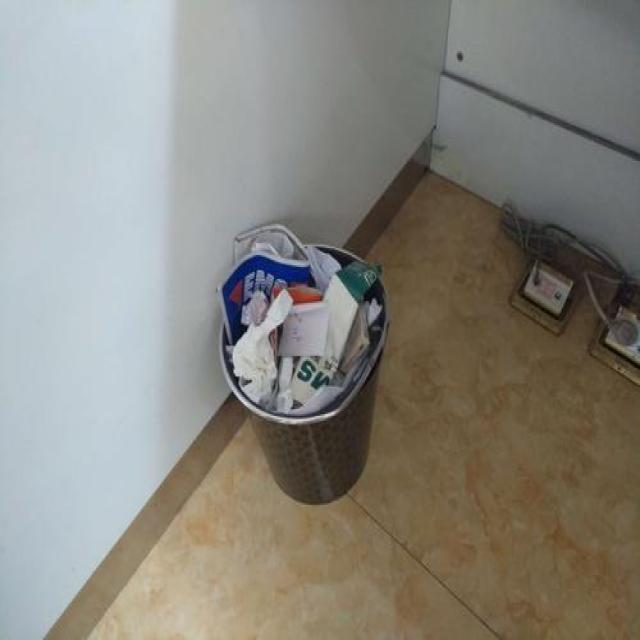overflow: (218, 219, 386, 501)
